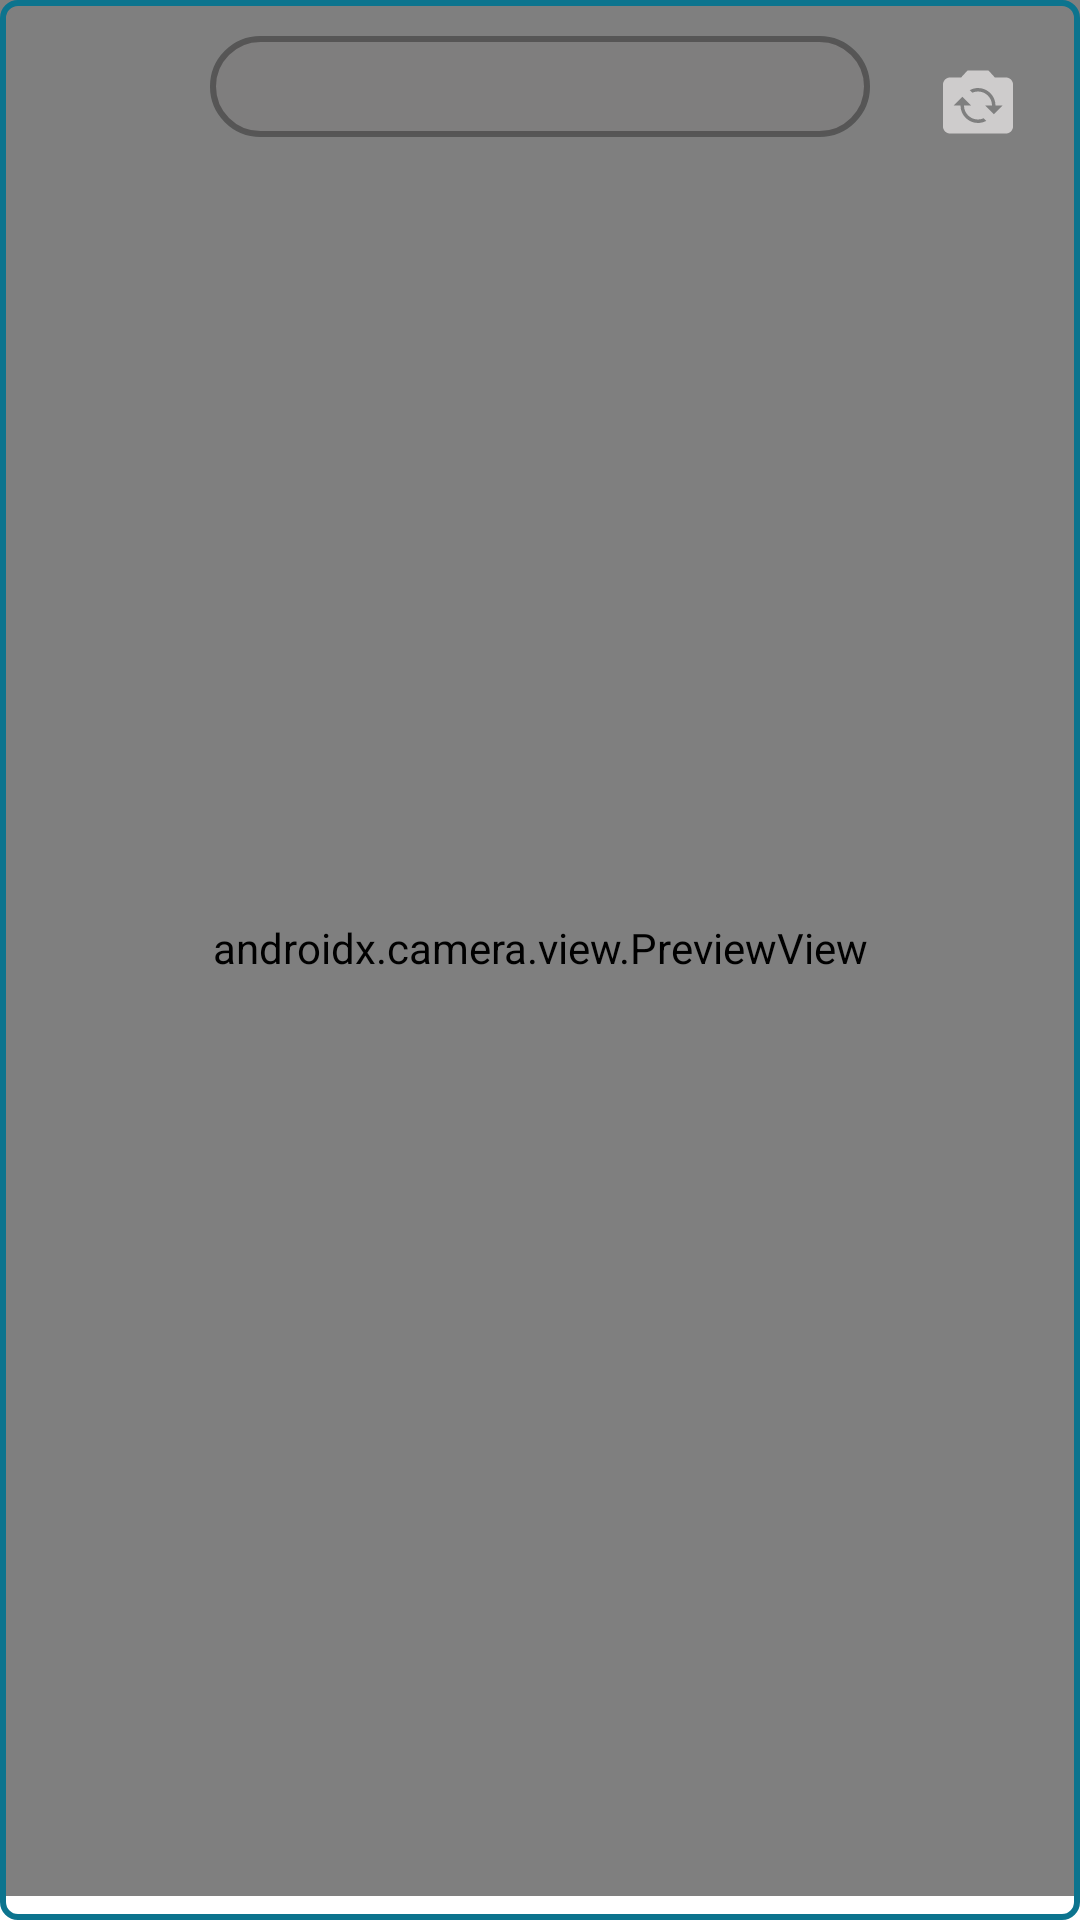

Screen size 1080 × 1920. Icon name, then its box in pixels as (x1, y1, x2, y2):
flip camera: (943, 70, 1013, 134)
